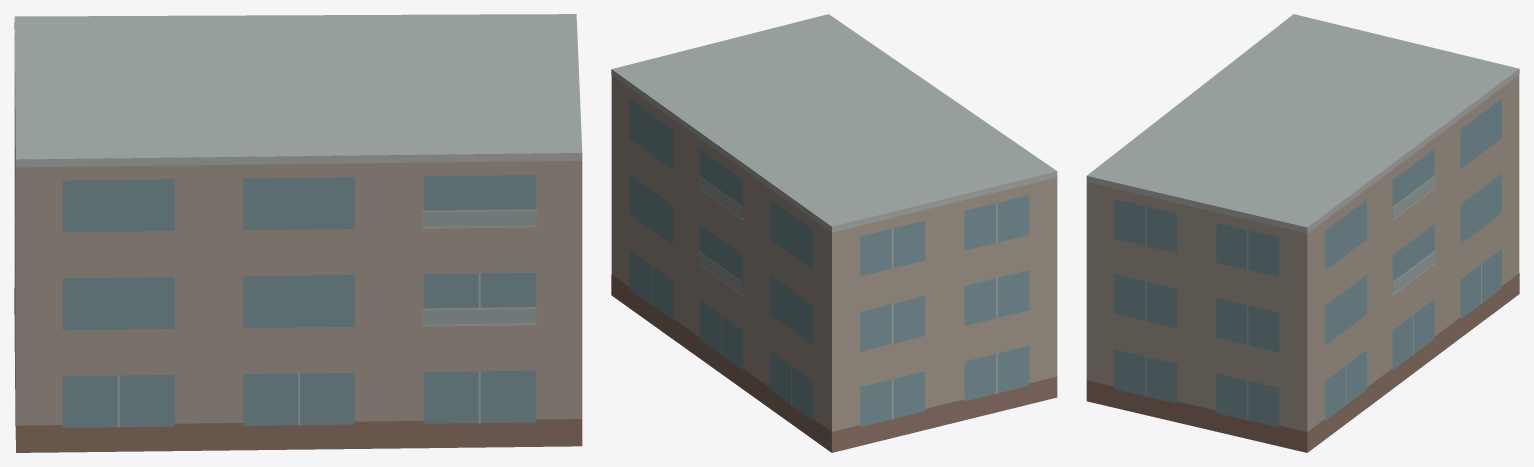
Rendered from survey-upis-32659048.glb.
3 views of the same model, side by side, from view 1: azimuth 30°, elevation 25°; view 2: azimuth 150°, elevation 25°; view 3: azimuth 270°, elevation 25° (orthographic). The views are drawn at different scales.
Parts seen in each view (by area): view 1: survey-upis-32659048.tmp; view 2: survey-upis-32659048.tmp; view 3: survey-upis-32659048.tmp.
Boxes of the visible parts, x1,y1,x2,y2 form: survey-upis-32659048.tmp: (14, 14, 582, 452); survey-upis-32659048.tmp: (611, 14, 1057, 452); survey-upis-32659048.tmp: (1086, 14, 1519, 452).
Bounding box in the file's own units: 18.5 × 9.1 × 15.85.
